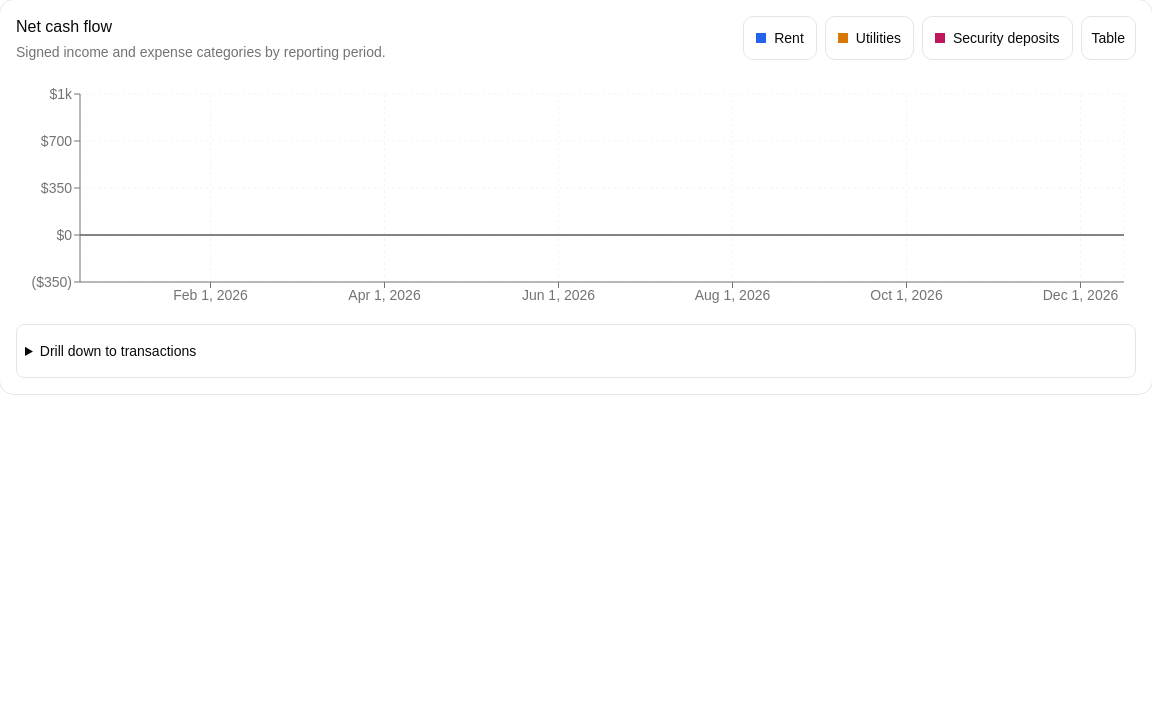
Test case: NetCashFlowChart › with security deposit series › adds deposits and Net cash flow columns to the exact-value table
Click the button "Table" at (1108, 38), box [1080, 16, 1136, 60]
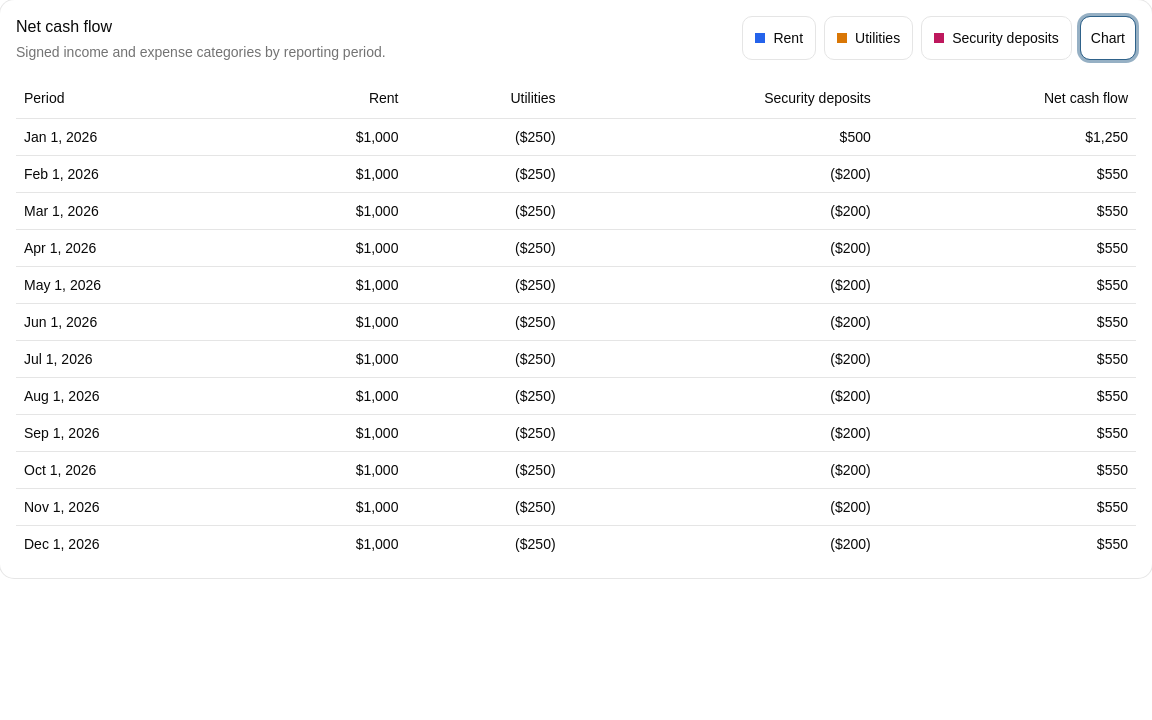
Result: the column heading "Security deposits" is shown at [564, 78, 879, 118]
Result: the column heading "Net cash flow" is shown at [879, 78, 1136, 118]
Result: the table named "Net cash flow exact values" shows "($200)" at [830, 166, 871, 182]
